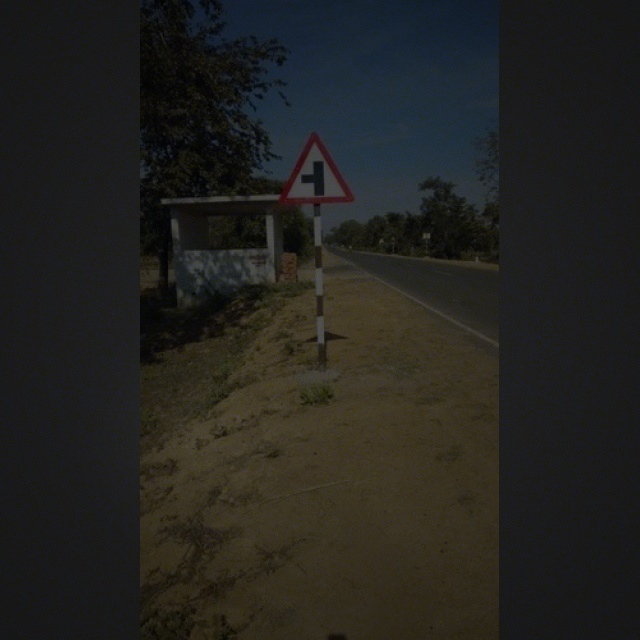Side_Road_Left: (277, 128, 357, 210)
